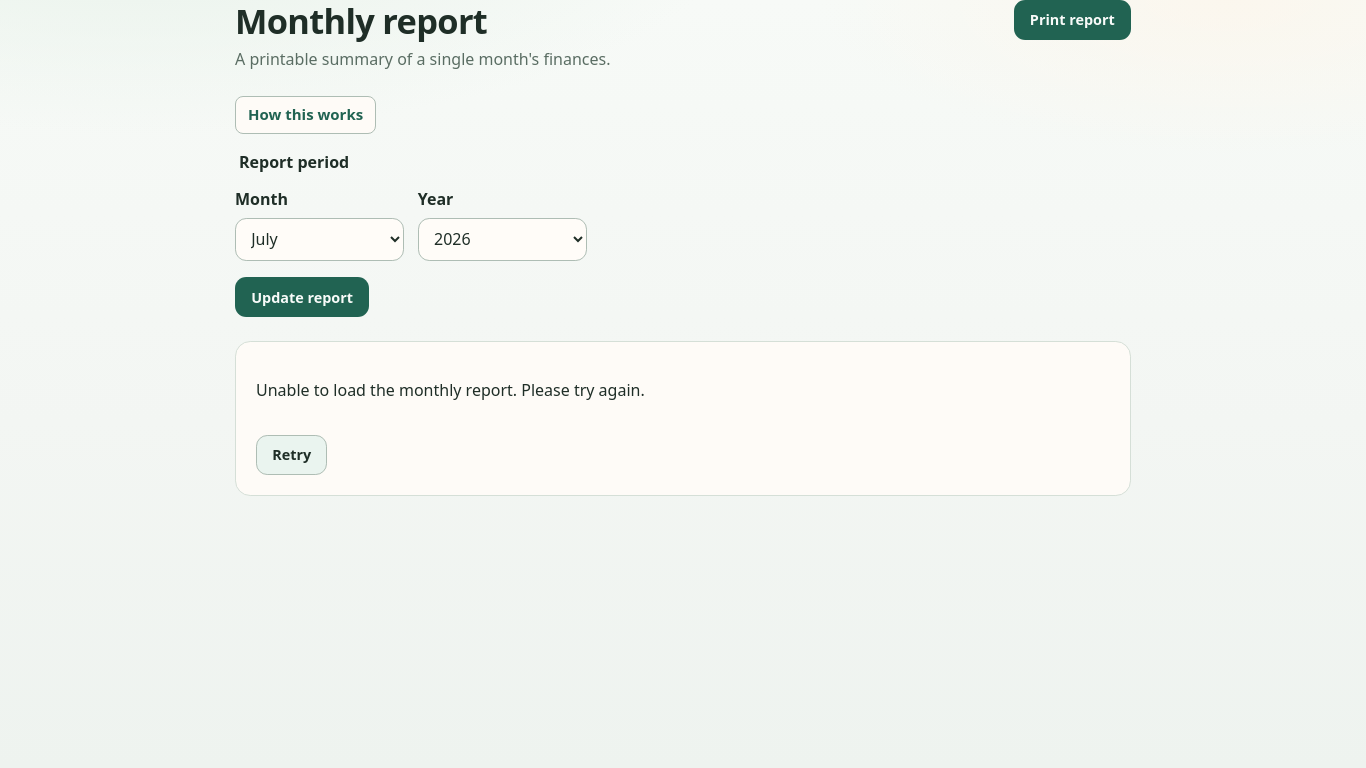
Test case: MonthlyReportPage › shows Retry when the API is unavailable
Check: the text "Unable to load the monthly report. Please try again." is shown, box [256,378,645,403]
Step 1. Click the button "Retry" → x=292, y=455, box [256,435,327,475]
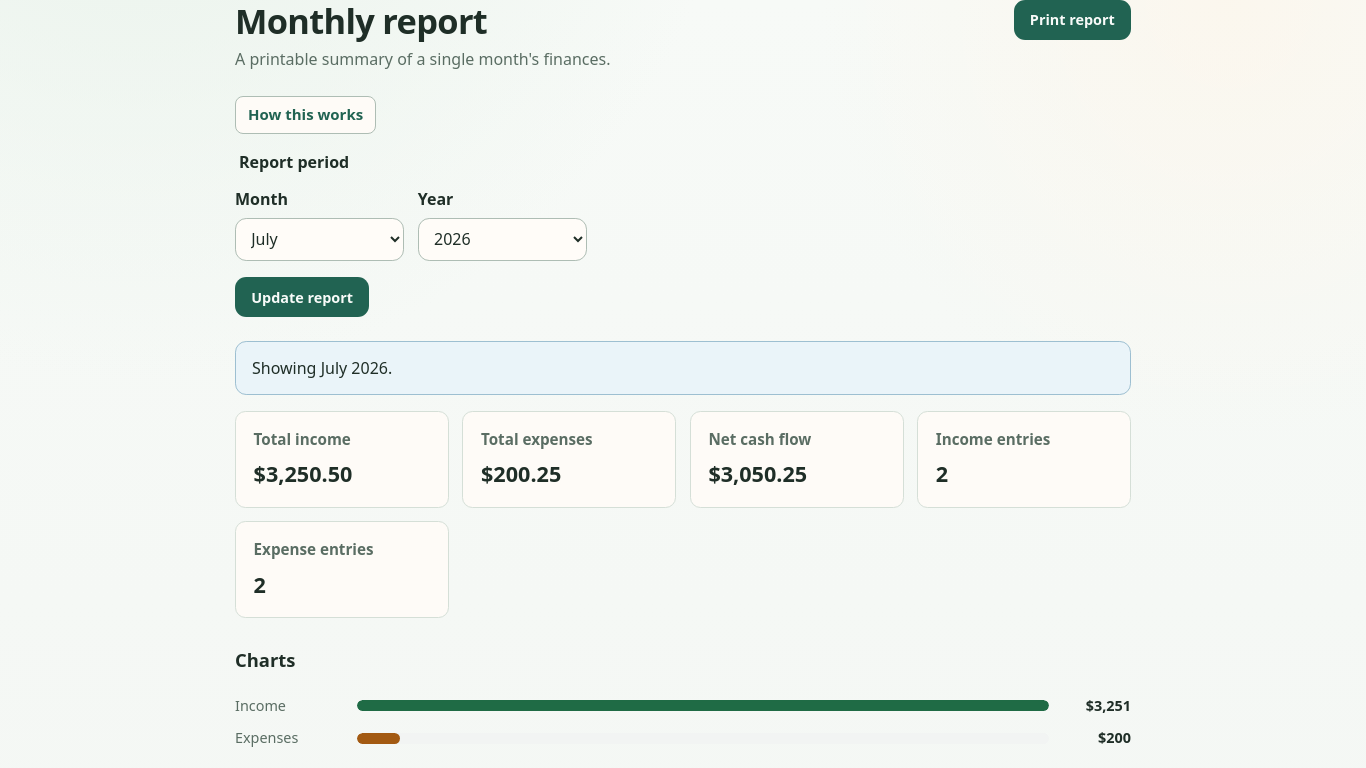
Check: the heading "Total income" is shown, box [254,429,351,449]
